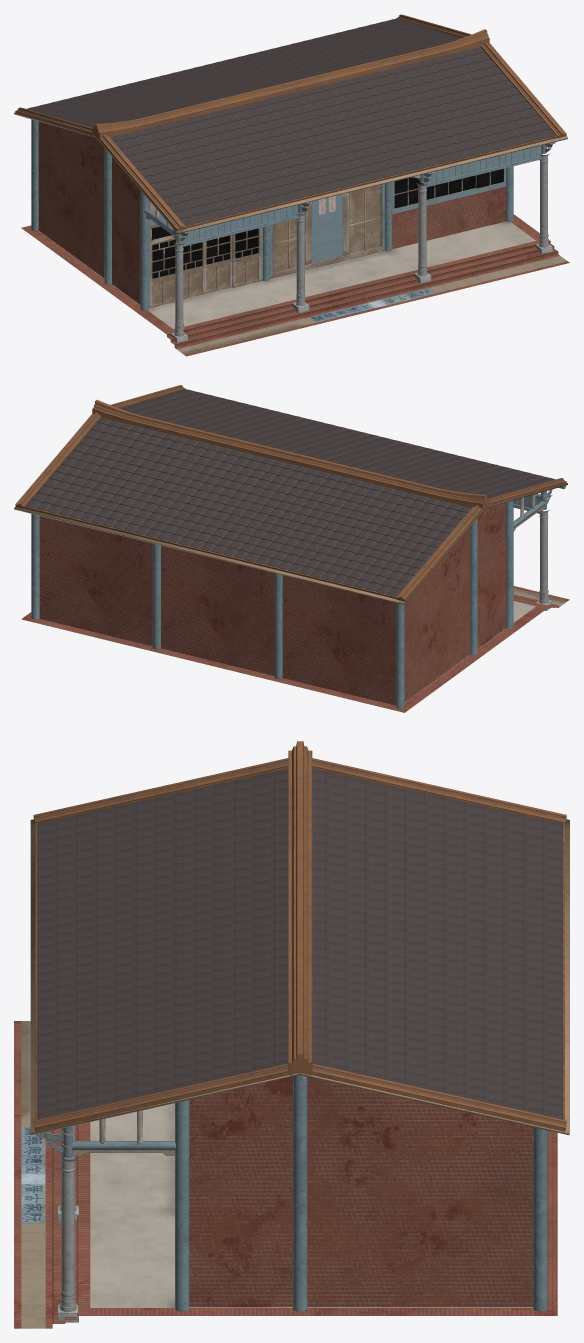
The model's file is jingliao-story-house.glb.
The picture shows the model from 3 angles, top to bottom: view 1: azimuth 30°, elevation 25°; view 2: azimuth 150°, elevation 25°; view 3: azimuth 270°, elevation 25°; orthographic projection. The views are drawn at different scales.
Visible parts, largest first — view 1: Story House; view 2: Story House; view 3: Story House.
Part boxes in pixels (x1=…): Story House: x1=14, y1=14, x2=569, y2=356; Story House: x1=14, y1=385, x2=569, y2=712; Story House: x1=14, y1=741, x2=569, y2=1328.
Bounding box in the file's own units: 13.17 × 5.44 × 9.89.
3 materials, 3 textured.
